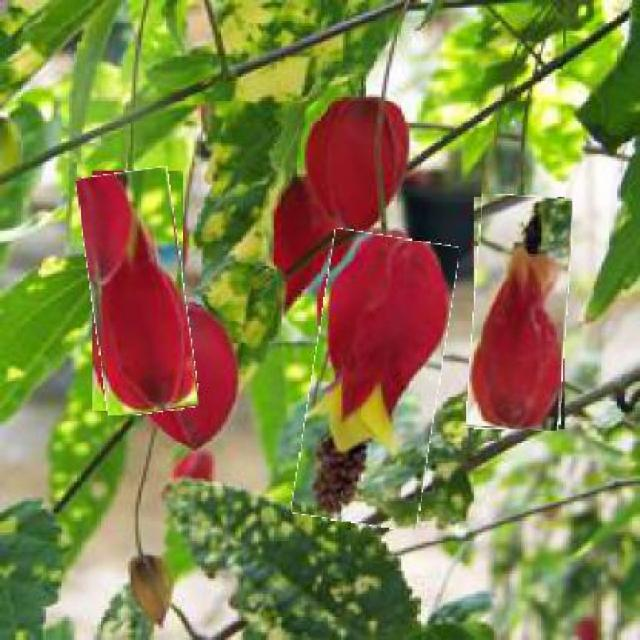Flower: (302, 231, 449, 527), (84, 169, 193, 415), (470, 196, 570, 432)
